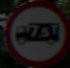Heavy Vehicles: (3, 4, 61, 61)
